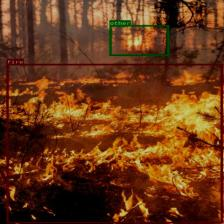fire: (6, 64, 222, 223)
